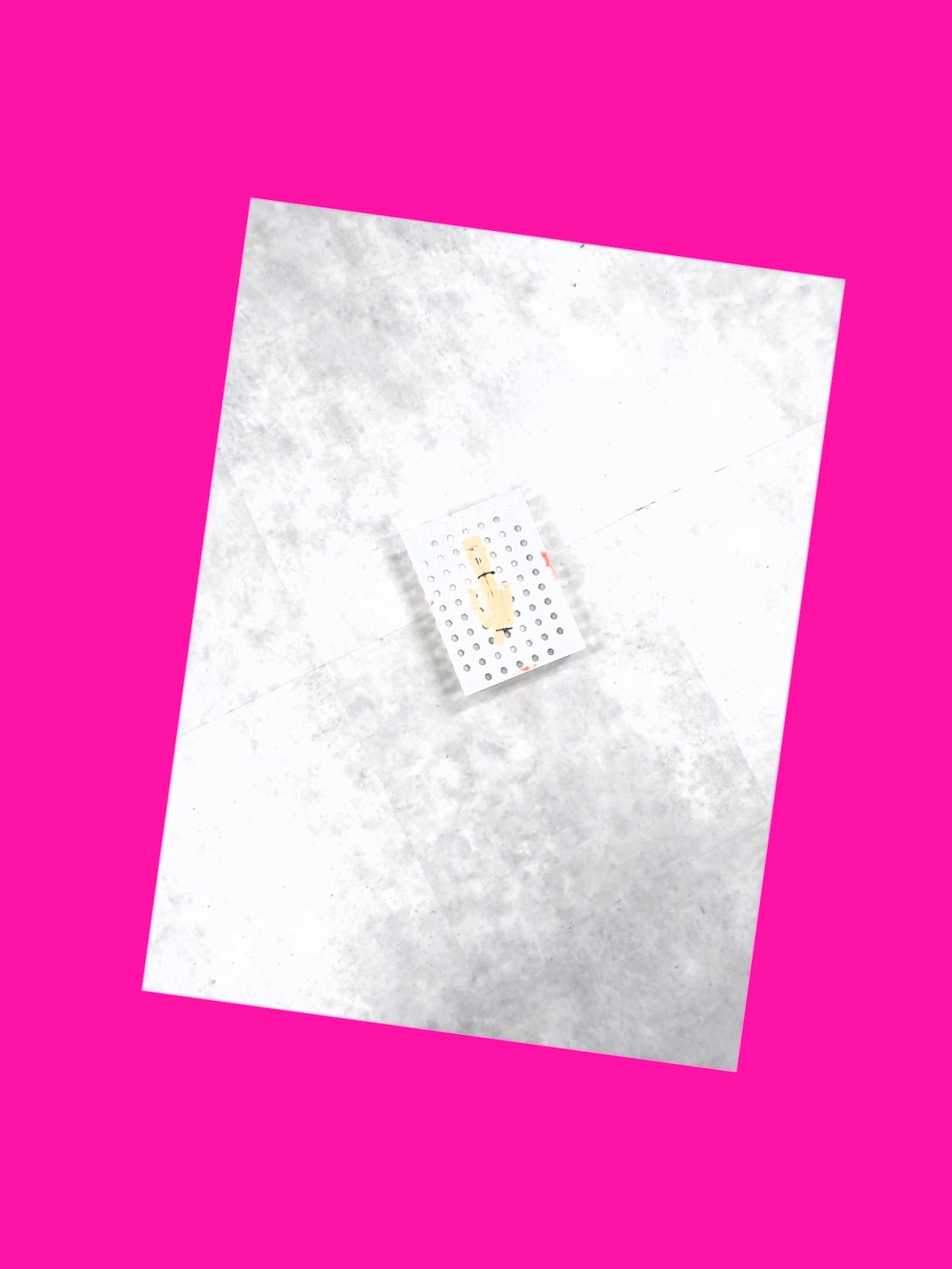basket: (394, 481, 594, 702)
mannequin: (456, 526, 520, 645)
